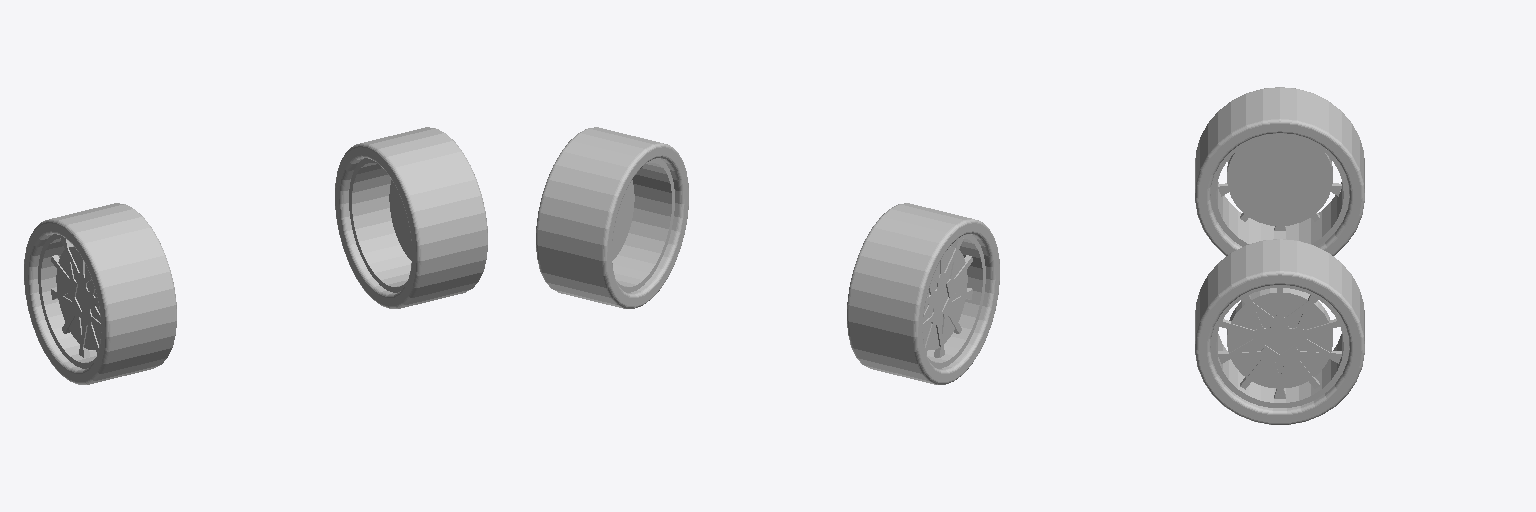
3 views of the same model, side by side, from view 1: azimuth 30°, elevation 25°; view 2: azimuth 150°, elevation 25°; view 3: azimuth 270°, elevation 25° (orthographic).
Parts seen in each view (by area): view 1: rad, rae; view 2: rad, rae; view 3: rae, rad.
Part boxes in pixels (x1,y1,x2,y2): rad: (24,203,176,384); rae: (335,127,487,308); rad: (847,203,999,384); rae: (536,127,688,308); rae: (1195,239,1364,424); rad: (1195,87,1364,255).
Bounding box in the file's own units: 3.19 × 1.23 × 1.23.